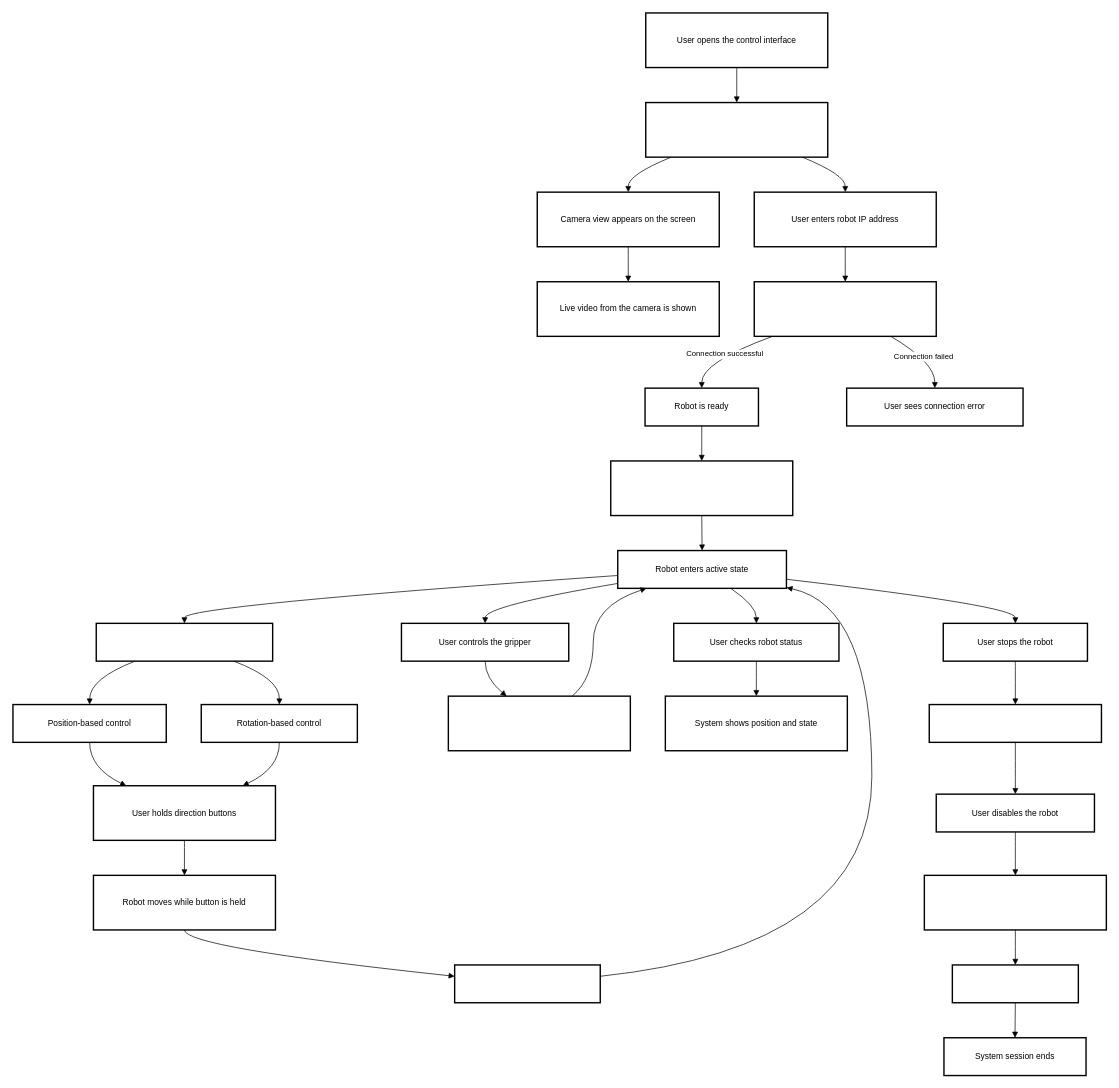
Some shapes in this 1119 by 1088 pixel diagram are drawn without their labels. Each missing label, with the centre of its shape:
Gripper opens or closes while button is held: (x=539, y=723)
Robot returns to safe idle state: (x=1015, y=902)
Robot stops all movement: (x=1015, y=723)
System attempts to connect to the robot: (x=845, y=309)
System loads the control screen: (x=736, y=130)
User chooses control mode: (x=184, y=642)
User disconnects: (x=1015, y=983)
User enables robot movement: (x=701, y=488)
User releases button: (x=527, y=983)
